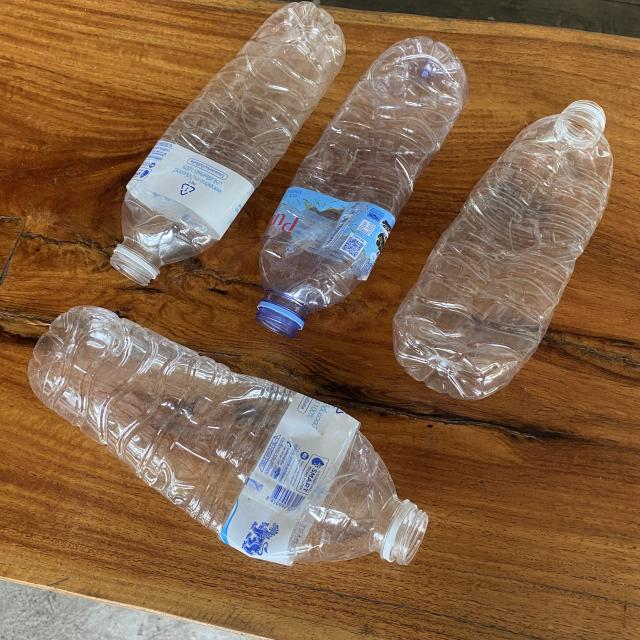plastik: (28, 306, 428, 565), (110, 2, 345, 285), (392, 100, 612, 400), (256, 36, 468, 338)
